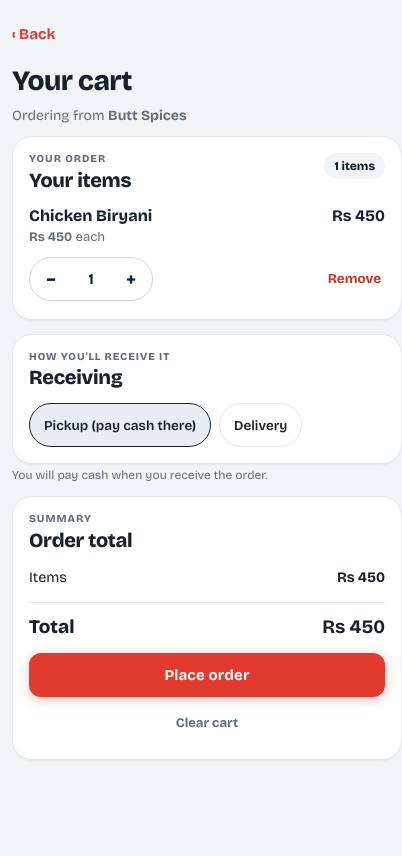
it: cart screen › increase/decrease updates quantities; decrease below 1 removes the item
What coordinates should you click on to do the following:
click the button named "Increase quantity of Chicken Biryani"
I would click on:
 (131, 279)
Its box is x1=110 y1=258 x2=152 y2=300.
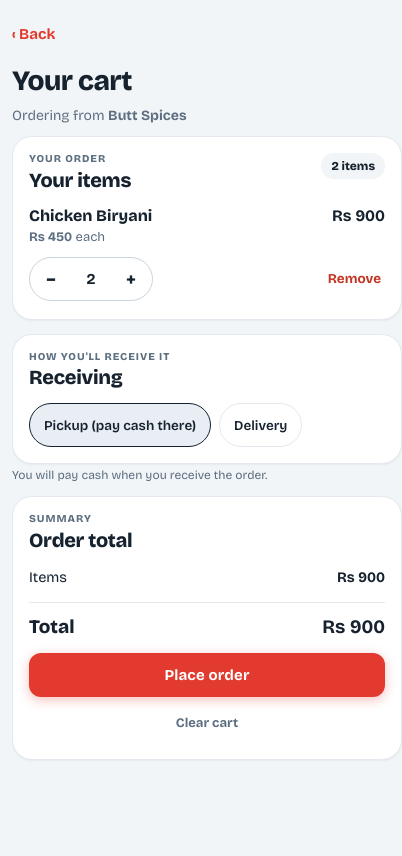
What coordinates should you click on to do the following:
click the button named "Decrease quantity of Chicken Biryani"
I would click on:
 (51, 279)
Its box is x1=30 y1=258 x2=72 y2=300.
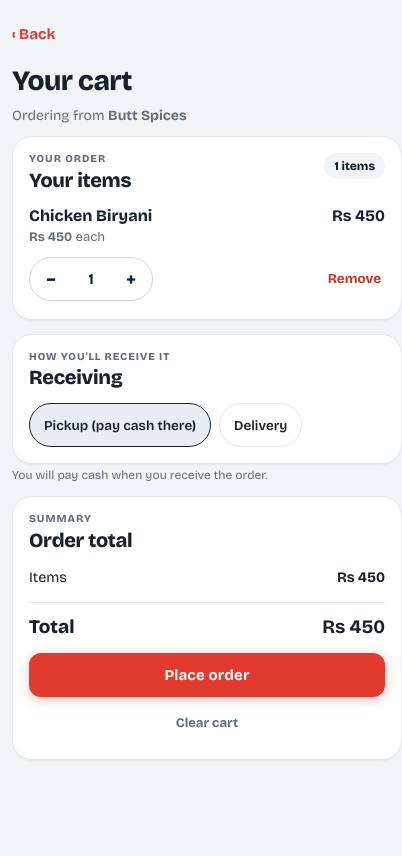
What coordinates should you click on to do the following:
click the button named "Decrease quantity of Chicken Biryani"
I would click on:
 (51, 279)
Its box is x1=30 y1=258 x2=72 y2=300.
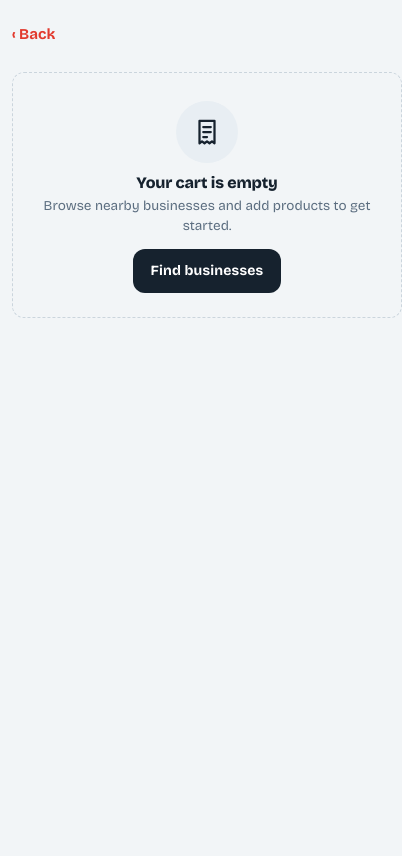
Now the heading "Your cart is empty" is shown, box x1=136 y1=173 x2=278 y2=192
